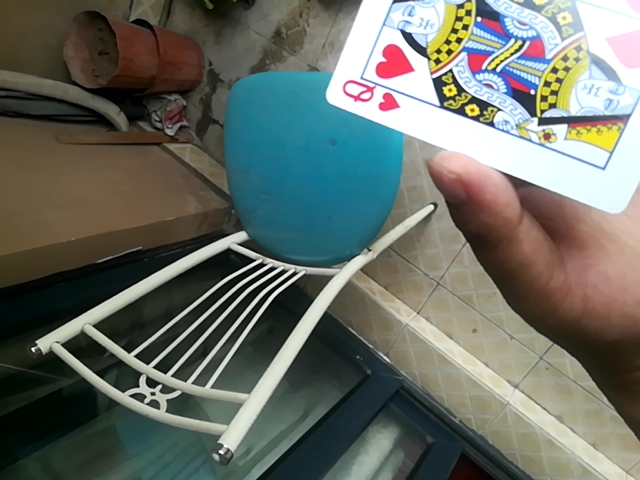hx q: (322, 2, 637, 219)
